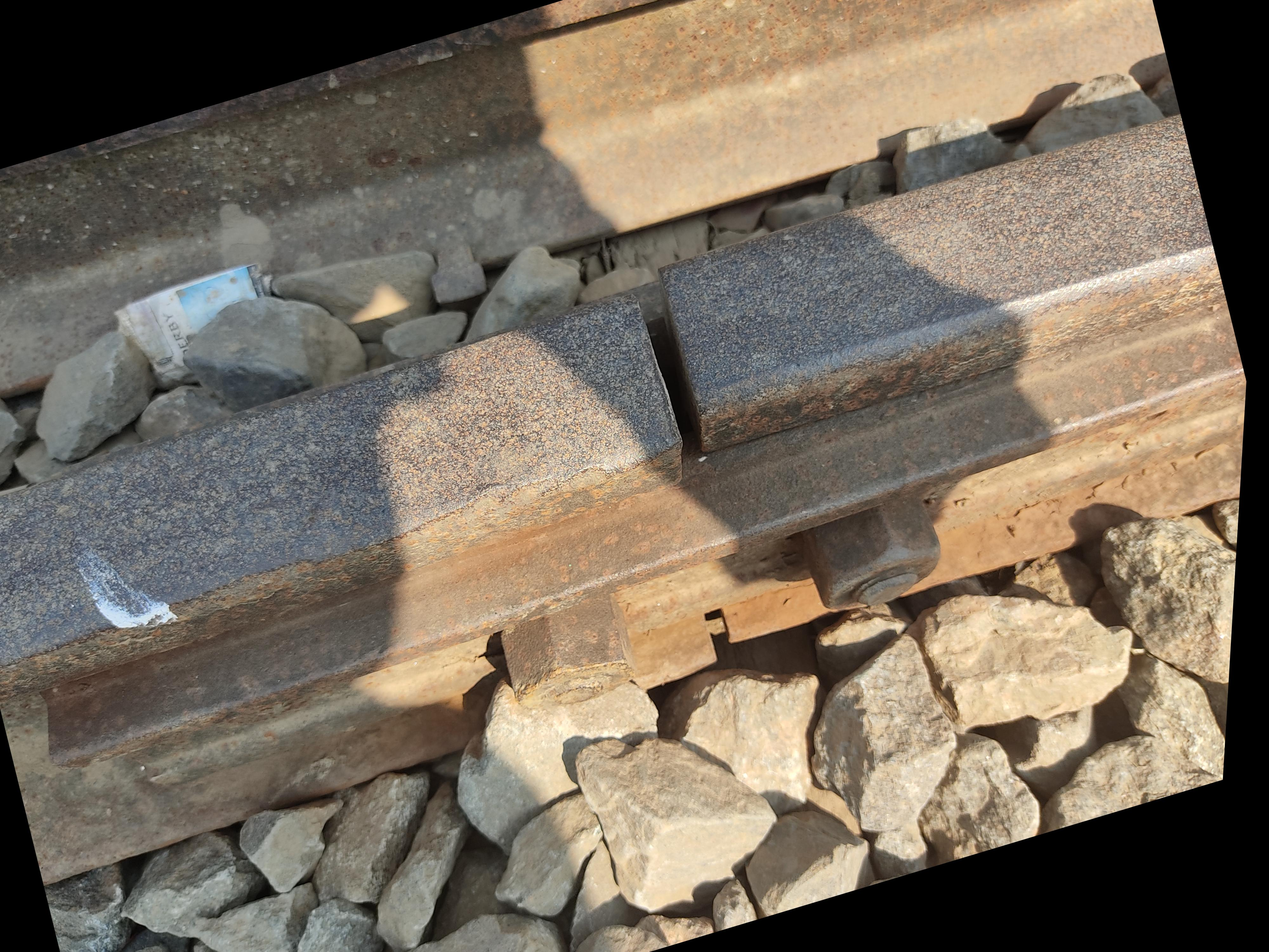person: (353, 392, 763, 742), (532, 751, 699, 906)
